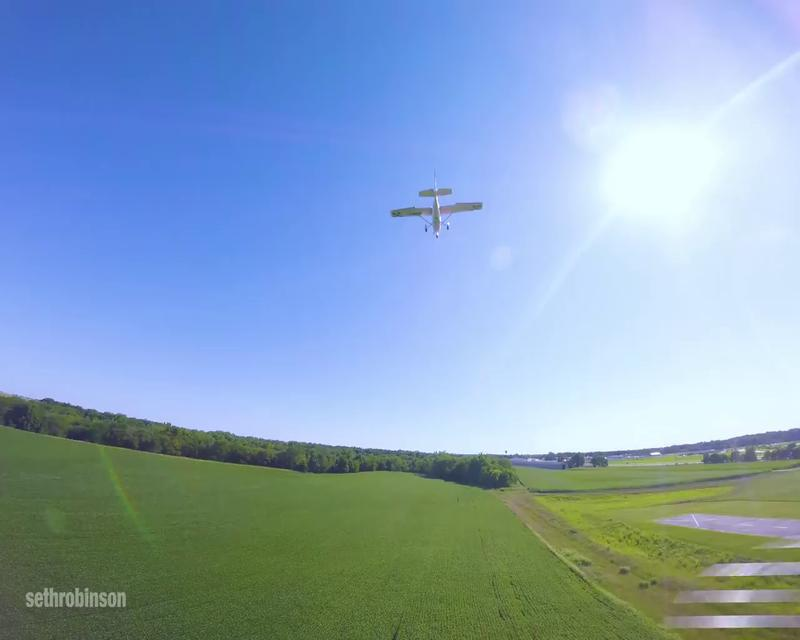UAV: (390, 172, 485, 238)
